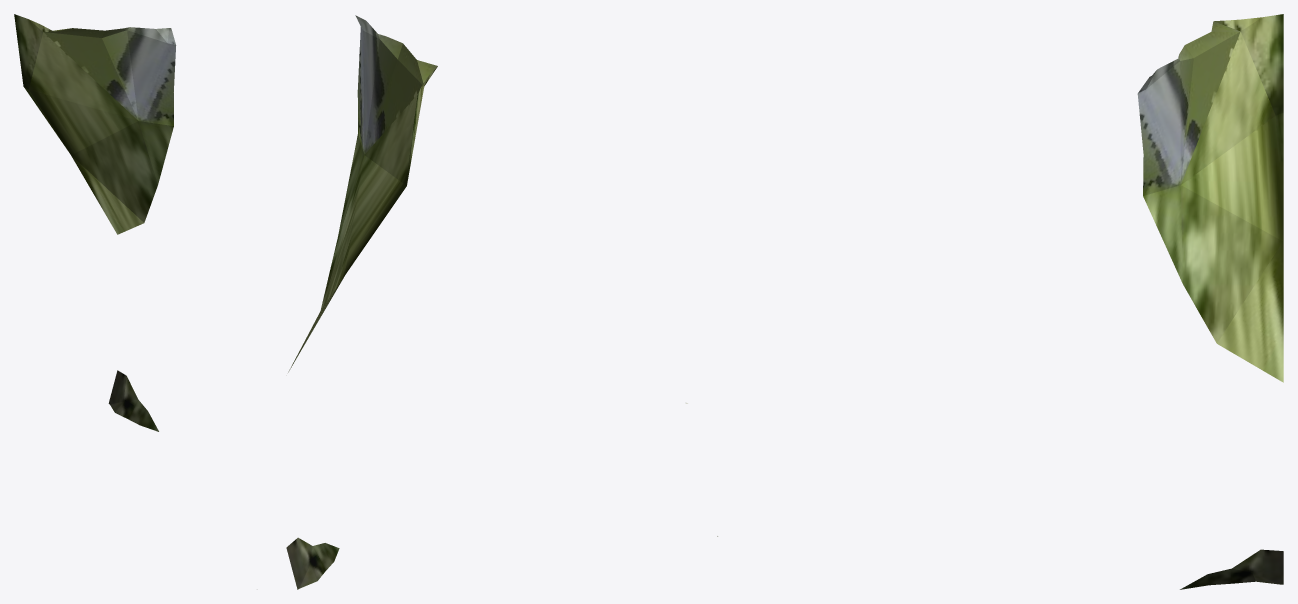
3 renders of one model, left to right at view 1: azimuth 30°, elevation 25°; view 2: azimuth 150°, elevation 25°; view 3: azimuth 270°, elevation 25°, orthographic. The views are drawn at different scales.
Bounding box in the file's own units: 0.7731 × 2.95 × 2.95.
Materials: 1 (1 with a texture image).
